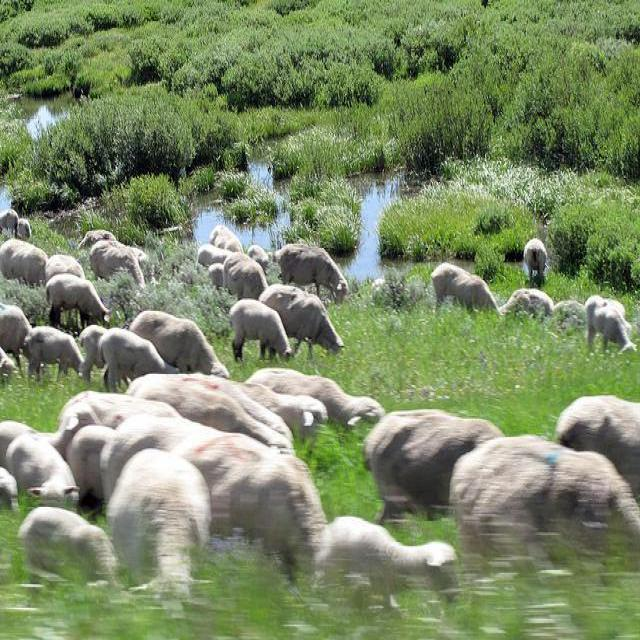Sheep: (1, 178, 639, 603), (170, 432, 331, 582), (452, 436, 639, 558), (109, 447, 219, 619), (122, 372, 299, 460), (328, 516, 465, 614), (243, 368, 387, 428), (128, 310, 231, 380), (259, 284, 345, 360), (2, 434, 82, 514), (98, 326, 178, 395), (429, 262, 507, 326), (43, 274, 112, 332)
